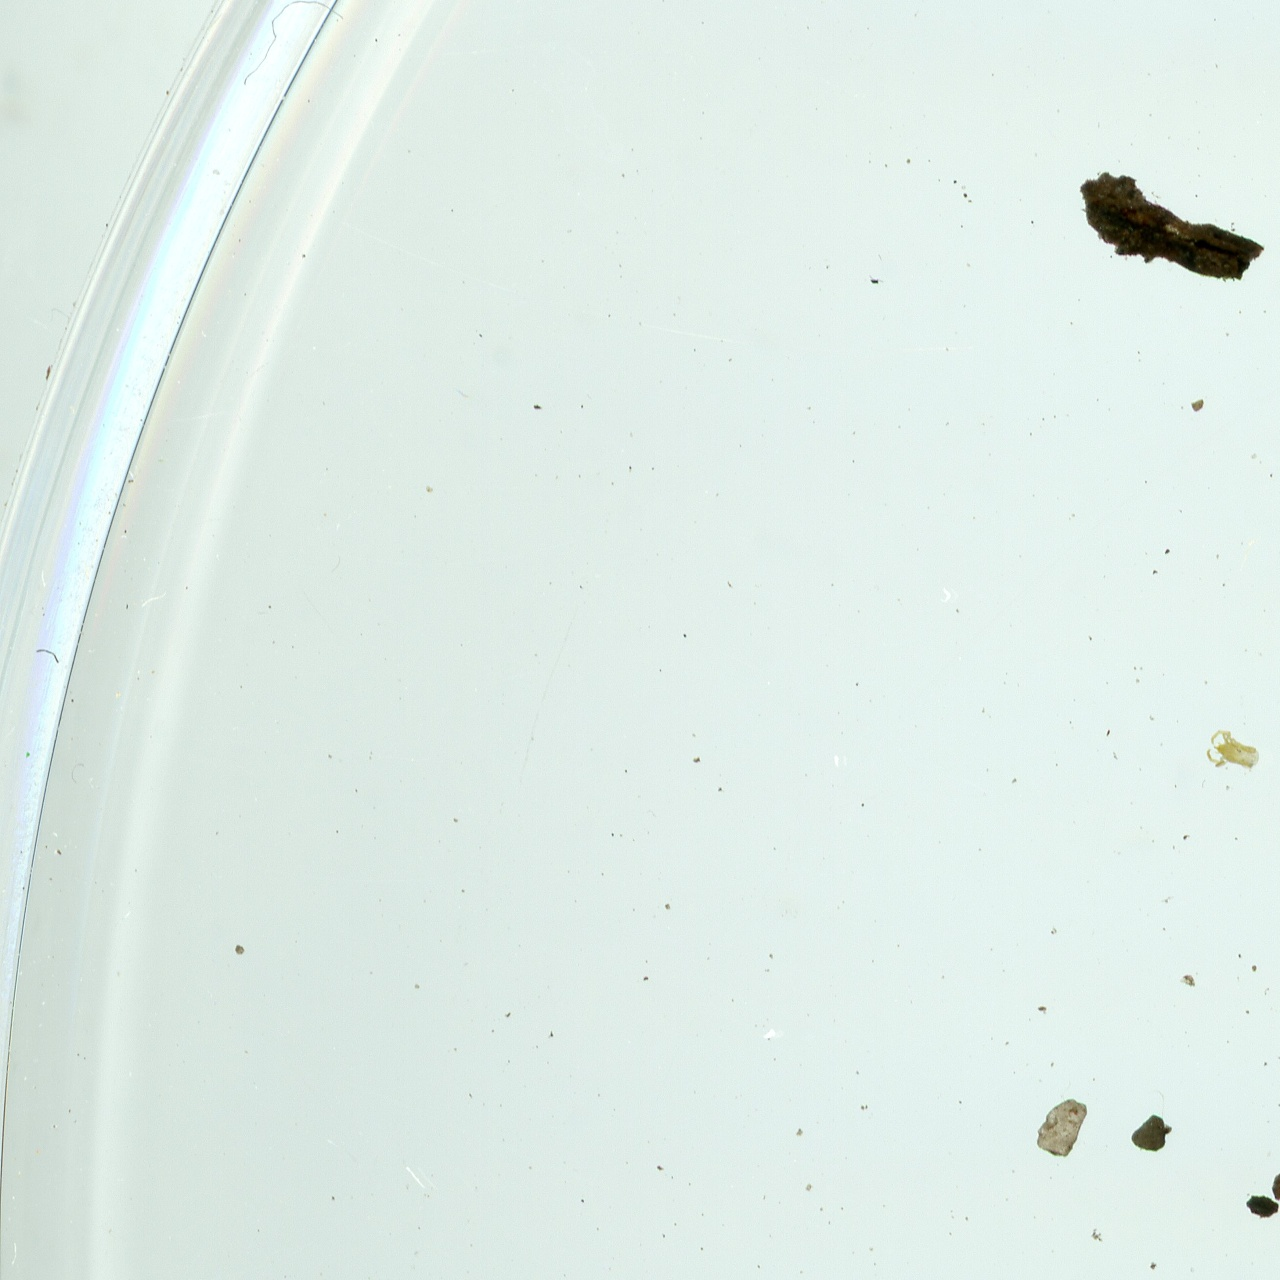arthropod: (1203, 725, 1262, 771)
